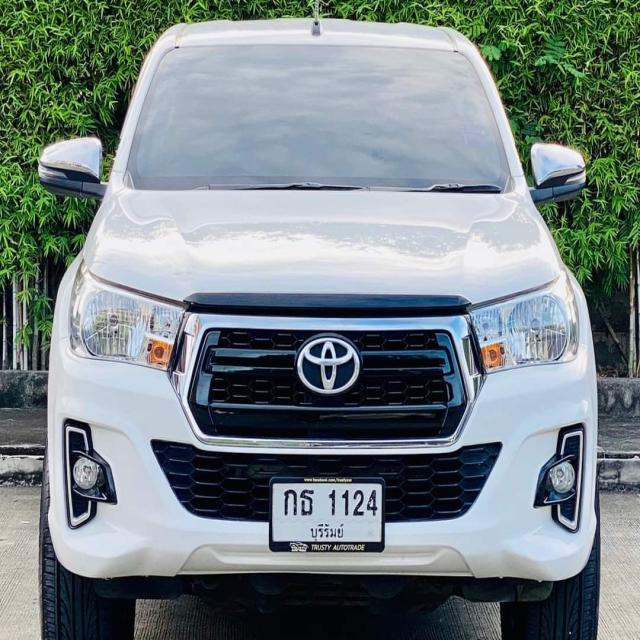license_plate: (268, 471, 386, 557)
